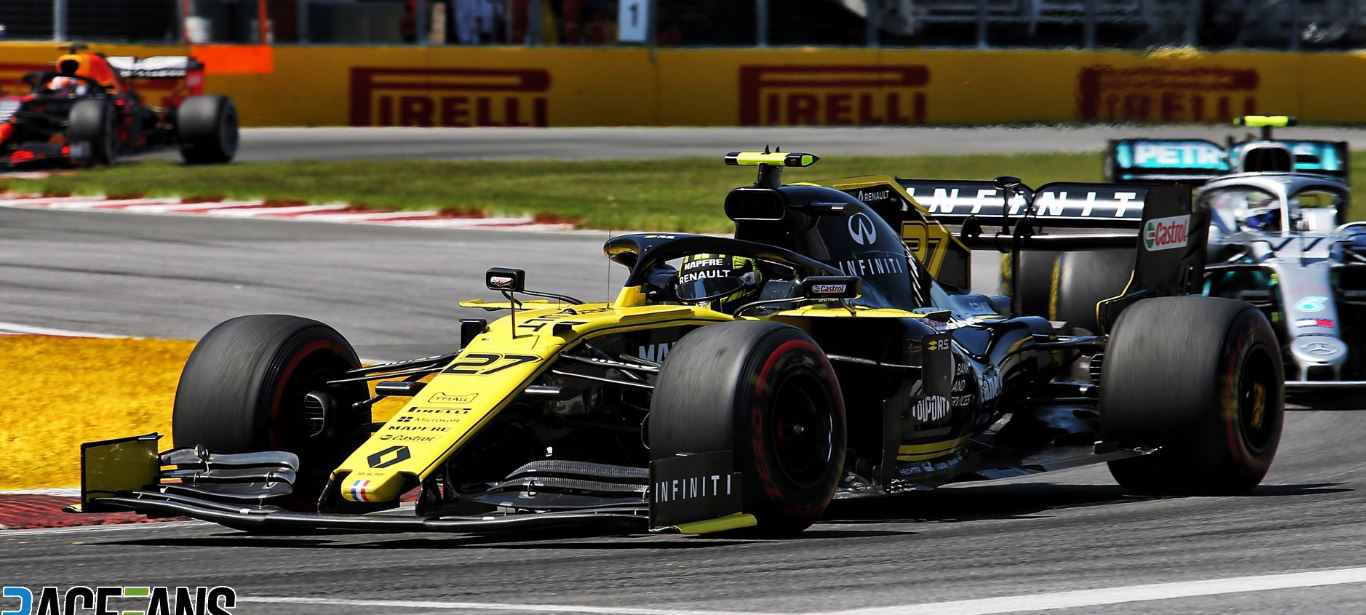F1 Car: (72, 138, 1279, 552)
